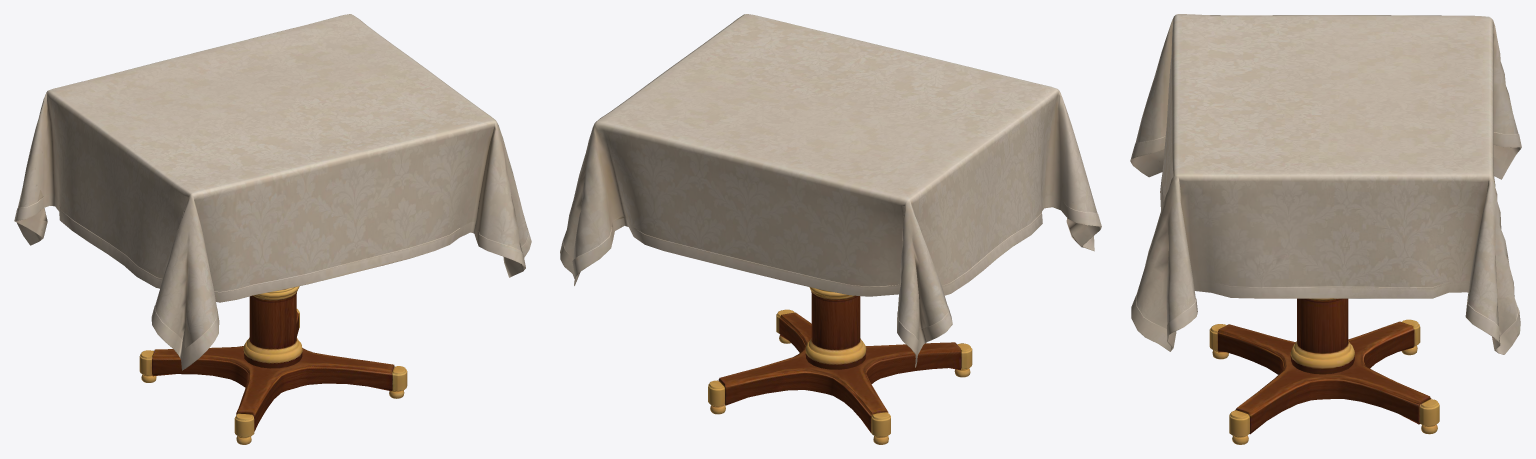
Rendered from restaurant-table.glb.
The picture shows the model from 3 angles, left to right: view 1: azimuth 30°, elevation 25°; view 2: azimuth 150°, elevation 25°; view 3: azimuth 270°, elevation 25°; orthographic projection. The views are drawn at different scales.
Parts seen in each view (by area): view 1: SM_BT_RestaurantTable; view 2: SM_BT_RestaurantTable; view 3: SM_BT_RestaurantTable.
Part boxes in pixels (box(x1,y1,x2,y2)): SM_BT_RestaurantTable: box(14, 14, 531, 444); SM_BT_RestaurantTable: box(560, 14, 1101, 444); SM_BT_RestaurantTable: box(1130, 14, 1521, 444).
Size of the model in its own units: 1.05 by 0.75 by 0.8715.
Materials: 1 (1 with a texture image).
